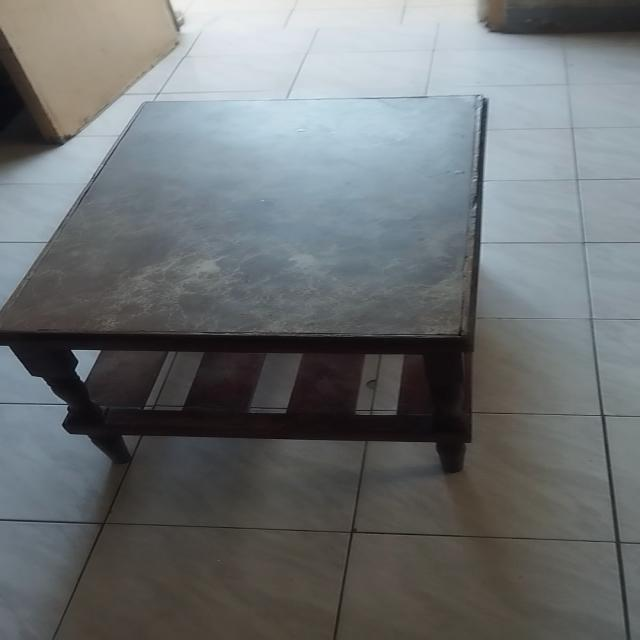table: (0, 92, 498, 482)
